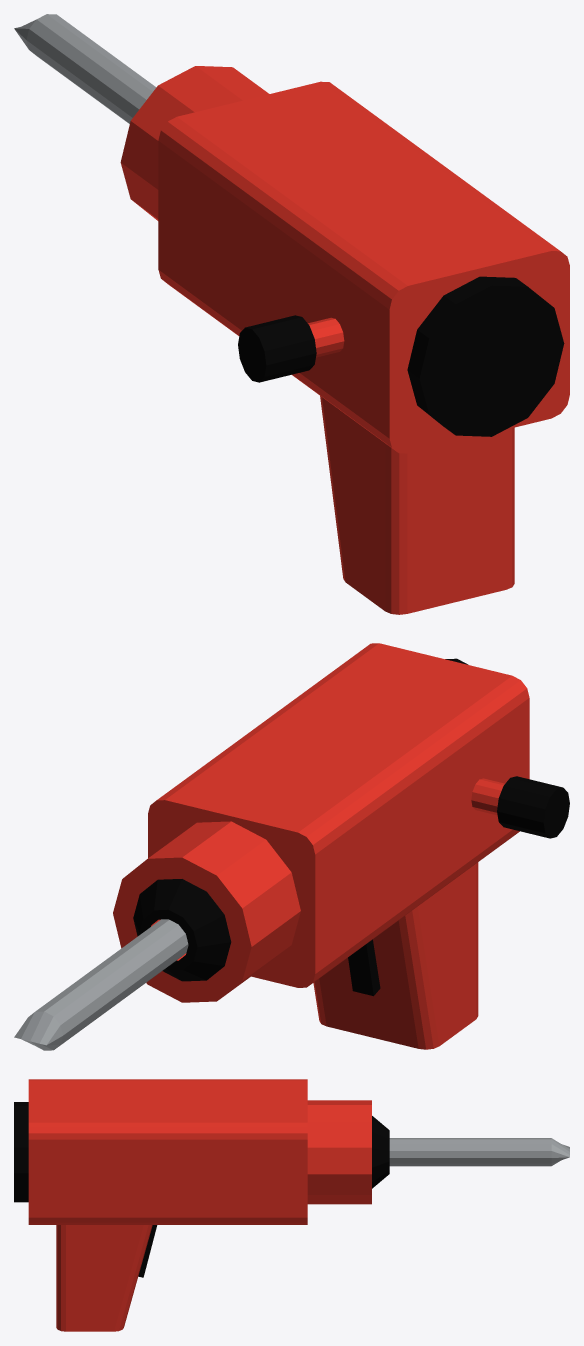
Rendered from drill.fbx.
The picture shows the model from 3 angles, top to bottom: view 1: azimuth 30°, elevation 25°; view 2: azimuth 150°, elevation 25°; view 3: azimuth 270°, elevation 25°; orthographic projection. The views are drawn at different scales.
Visible parts, largest first — view 1: Body, Bit, Selector; view 2: Body, Bit, Selector, Button; view 3: Body, Bit.
Boxes of the visible parts, <box> form: Body: <box>120,66,569,614</box>; Bit: <box>14,14,156,123</box>; Selector: <box>238,315,344,382</box>; Body: <box>113,643,529,1049</box>; Bit: <box>14,919,188,1050</box>; Selector: <box>471,776,569,838</box>; Button: <box>348,939,380,996</box>; Body: <box>14,1079,389,1331</box>; Bit: <box>389,1138,569,1166</box>.
Bounding box in the file's own units: 13.3 × 16.86 × 40.19.
Materials: 1 (1 with a texture image).
